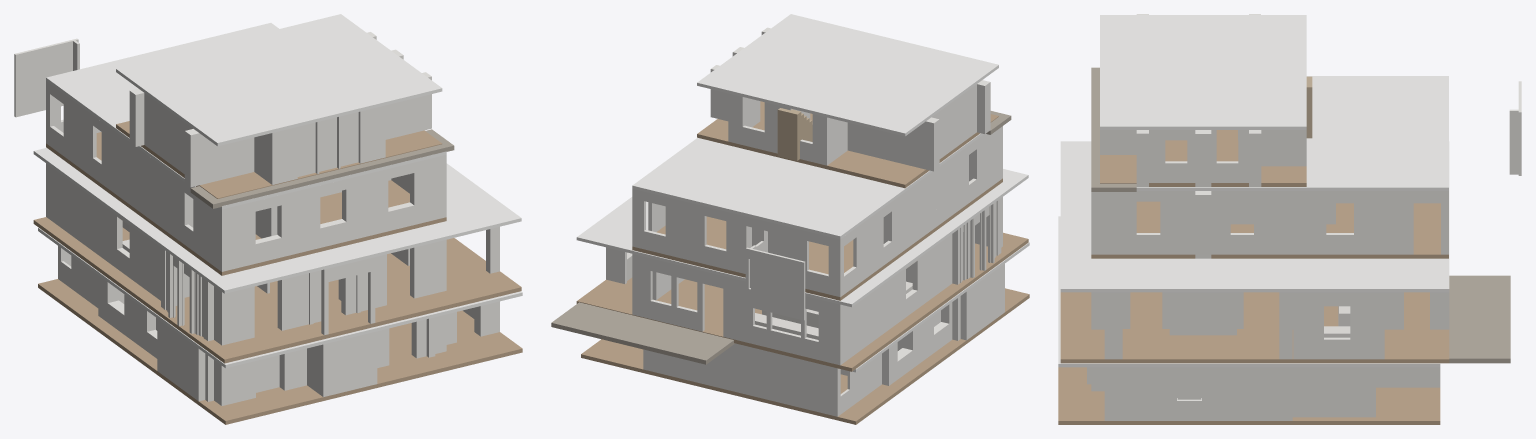
File: a1-building.glb
3 views of the same model, side by side, from view 1: azimuth 30°, elevation 25°; view 2: azimuth 150°, elevation 25°; view 3: azimuth 270°, elevation 25° (orthographic). The views are drawn at different scales.
Parts seen in each view (by area): view 1: storey_a1, storey_a2, storey_a0, storey_a3_ceiling, storey_a3, storey_a1_ceiling, storey_a2_ceiling, storey_a0_ceiling; view 2: storey_a1, storey_a2, storey_a3_ceiling, storey_a0, storey_a3, storey_a2_ceiling, storey_a1_ceiling, storey_a0_ceiling; view 3: storey_a1, storey_a2, storey_a3_ceiling, storey_a0, storey_a1_ceiling, storey_a2_ceiling, storey_a3, storey_a0_ceiling.
Part boxes in pixels (x1=…): storey_a1: x1=33, y1=163, x2=521, y2=363; storey_a2: x1=14, y1=38, x2=446, y2=275; storey_a0: x1=38, y1=246, x2=522, y2=424; storey_a3_ceiling: x1=116, y1=14, x2=442, y2=146; storey_a3: x1=116, y1=32, x2=454, y2=208; storey_a1_ceiling: x1=33, y1=147, x2=521, y2=293; storey_a2_ceiling: x1=46, y1=23, x2=446, y2=209; storey_a0_ceiling: x1=38, y1=227, x2=522, y2=368; storey_a1: x1=551, y1=197, x2=1028, y2=371; storey_a2: x1=632, y1=126, x2=1002, y2=320; storey_a3_ceiling: x1=697, y1=14, x2=998, y2=136; storey_a0: x1=581, y1=264, x2=1029, y2=424; storey_a3: x1=697, y1=27, x2=1011, y2=188; storey_a2_ceiling: x1=632, y1=133, x2=983, y2=239; storey_a1_ceiling: x1=576, y1=169, x2=1028, y2=307; storey_a0_ceiling: x1=852, y1=242, x2=1029, y2=372; storey_a1: x1=1060, y1=275, x2=1510, y2=363; storey_a2: x1=1091, y1=81, x2=1521, y2=258; storey_a3_ceiling: x1=1100, y1=15, x2=1306, y2=129; storey_a0: x1=1058, y1=367, x2=1440, y2=424; storey_a1_ceiling: x1=1060, y1=141, x2=1449, y2=292; storey_a2_ceiling: x1=1136, y1=76, x2=1448, y2=190; storey_a3: x1=1091, y1=14, x2=1312, y2=191; storey_a0_ceiling: x1=1058, y1=216, x2=1440, y2=367.
Bounding box in the file's own units: 12.13 × 10.29 × 16.08.
